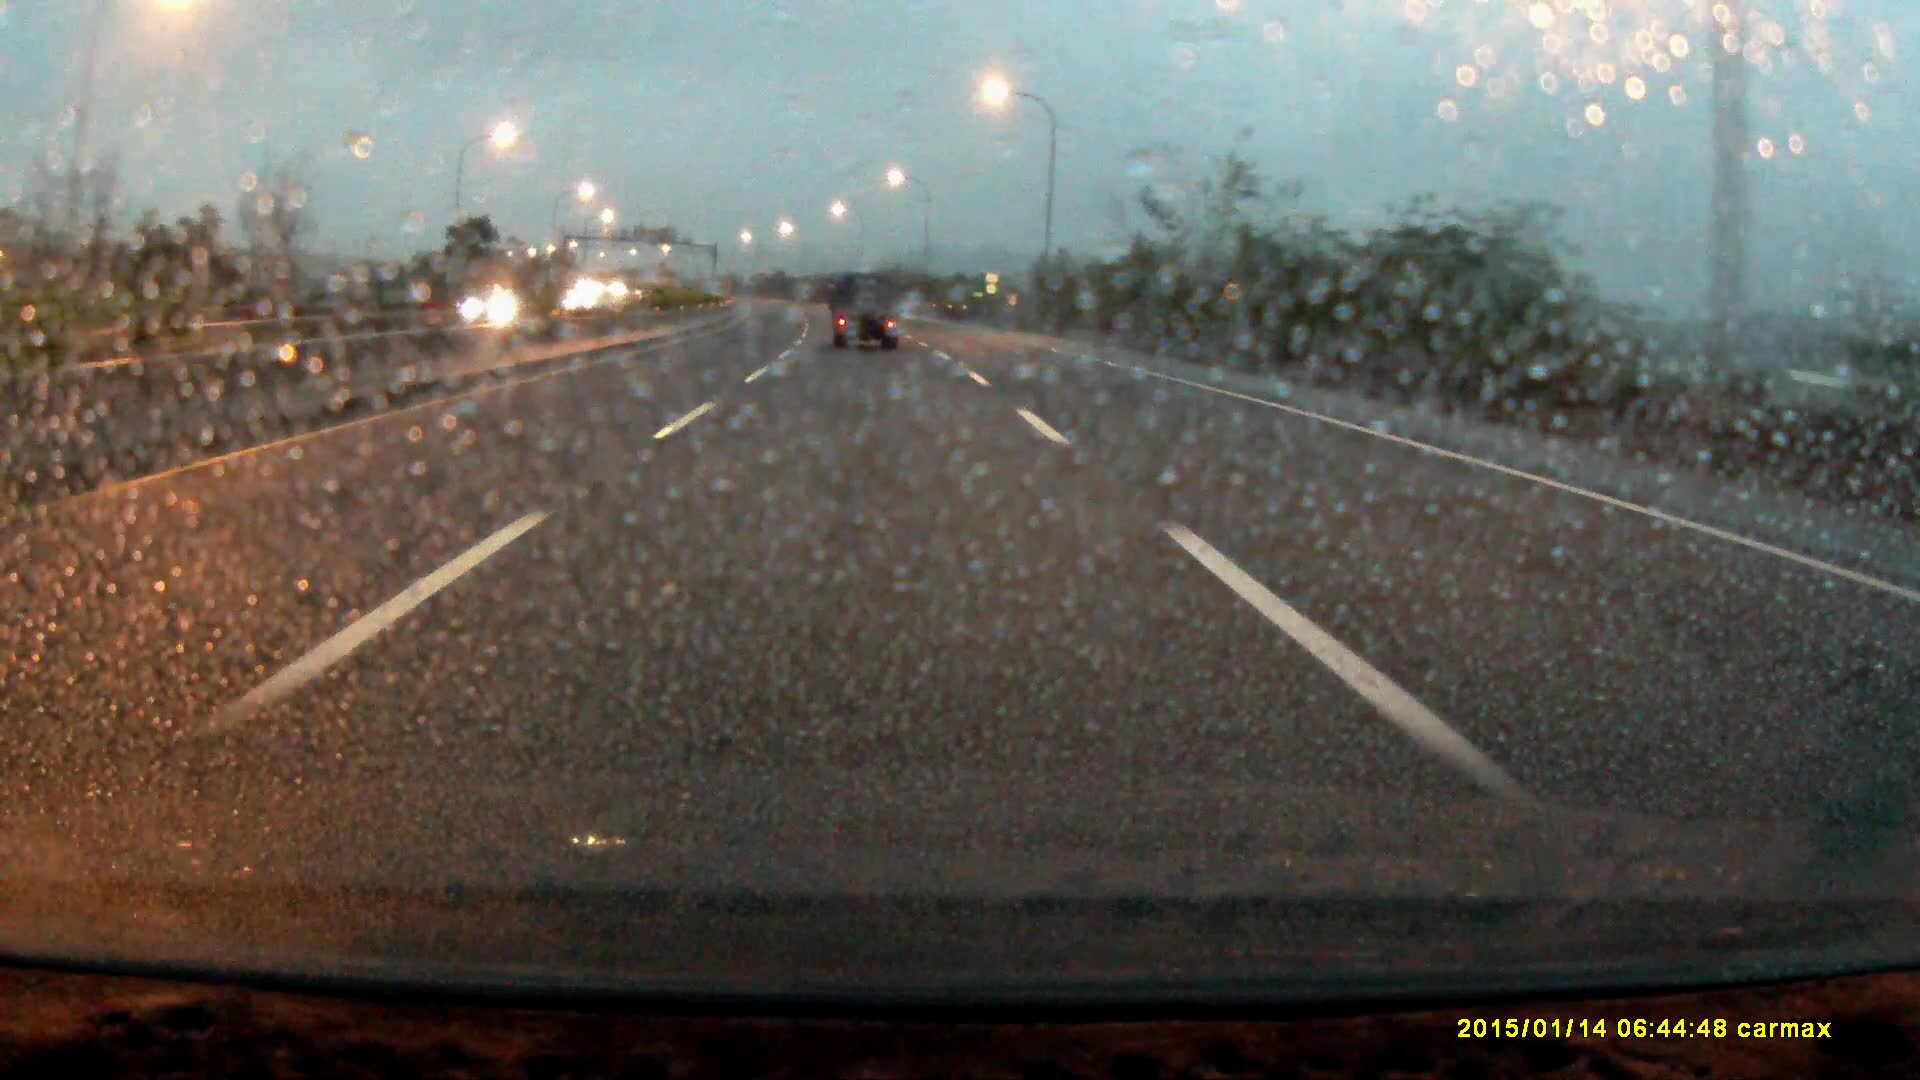vehicle: (832, 276, 899, 351), (458, 287, 537, 324)
